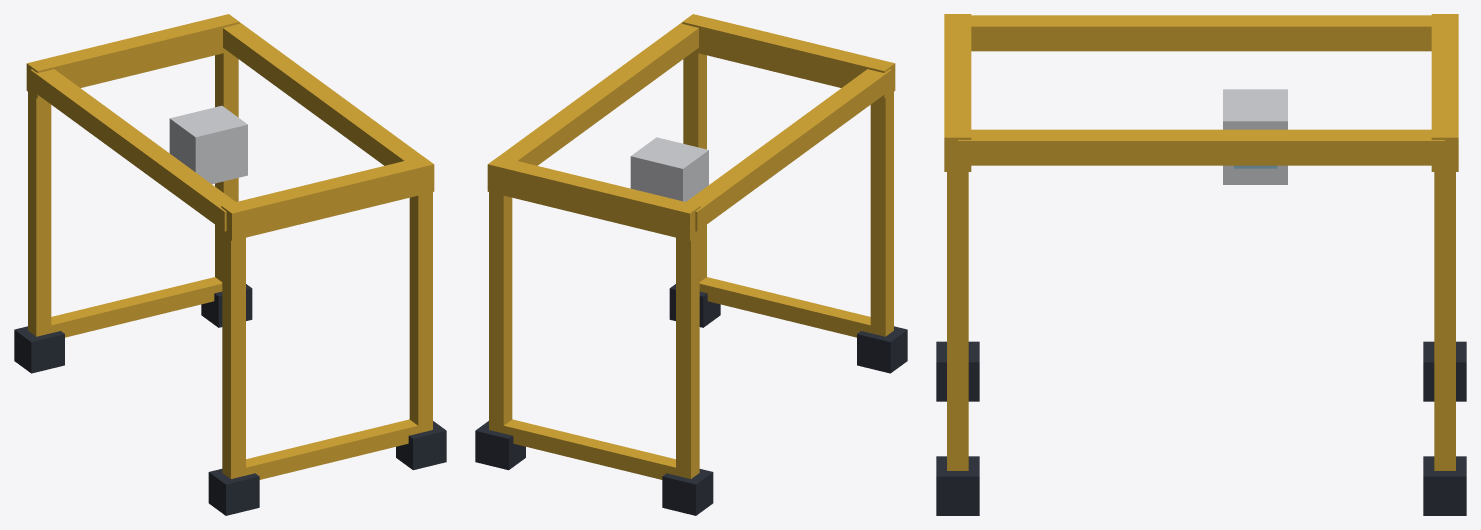
File: rtg.glb
3 renders of one model, left to right at view 1: azimuth 30°, elevation 25°; view 2: azimuth 150°, elevation 25°; view 3: azimuth 270°, elevation 25°, orthographic. The views are drawn at different scales.
Parts seen in each view (by area): view 1: rtg; view 2: rtg; view 3: rtg.
Part boxes in pixels (x1,y1,x2,y2): rtg: (14,14,446,515); rtg: (475,14,907,515); rtg: (936,14,1466,515).
Size of the model in its own units: 5.9 by 7.6 by 9.8.
